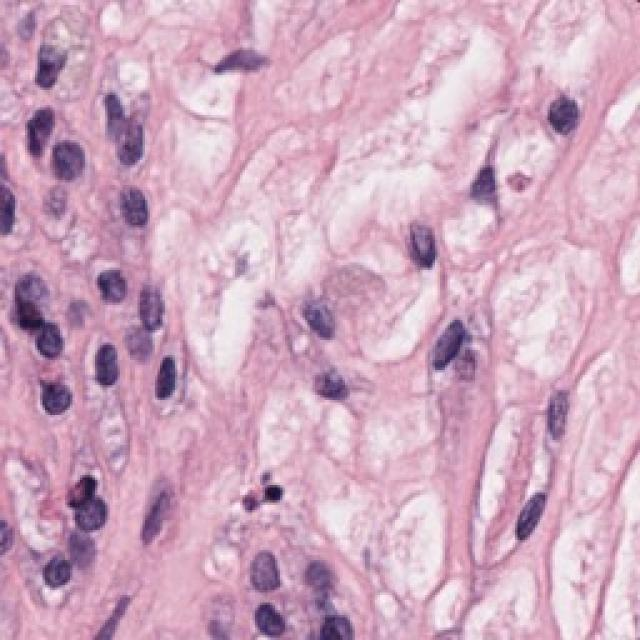normal: (49, 454, 130, 532), (9, 301, 87, 378), (102, 283, 189, 351), (21, 132, 91, 216), (239, 524, 299, 599), (108, 181, 168, 255)
